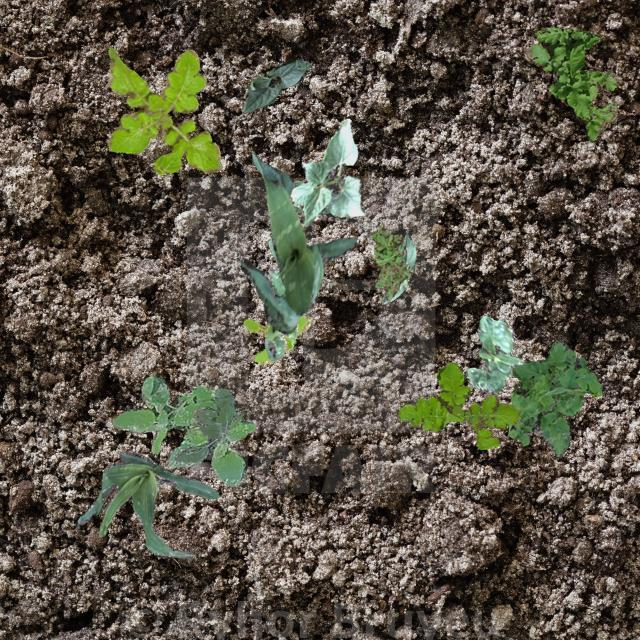crop: (236, 152, 356, 332), (76, 450, 218, 558), (288, 118, 362, 226), (464, 314, 522, 392), (264, 238, 296, 359), (240, 59, 310, 112), (380, 234, 416, 302), (292, 180, 328, 212)
weed: (112, 374, 255, 484), (106, 46, 220, 174), (508, 340, 602, 456), (396, 362, 520, 448), (524, 26, 616, 140), (174, 386, 242, 462), (242, 314, 310, 364), (370, 224, 410, 298)
